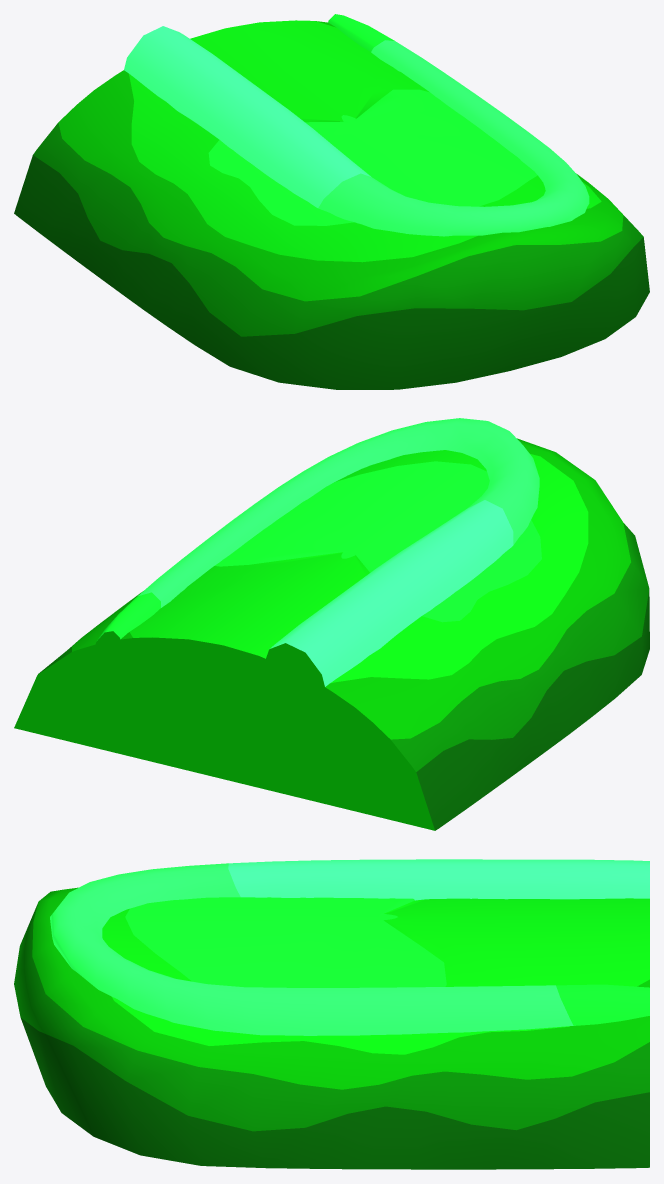
The model's file is shot_espike_137.glb.
3 renders of one model, top to bottom at view 1: azimuth 30°, elevation 25°; view 2: azimuth 150°, elevation 25°; view 3: azimuth 270°, elevation 25°, orthographic. The views are drawn at different scales.
Visible parts, largest first — view 1: shot_espike_137_body, shot_espike_137_light; view 2: shot_espike_137_body, shot_espike_137_light; view 3: shot_espike_137_body, shot_espike_137_light.
Boxes of the visible parts, box(x1,y1,x2,y2) form: shot_espike_137_body: box(14, 20, 649, 389); shot_espike_137_light: box(124, 14, 589, 236); shot_espike_137_body: box(14, 438, 649, 830); shot_espike_137_light: box(93, 418, 539, 689); shot_espike_137_body: box(14, 887, 649, 1169); shot_espike_137_light: box(50, 859, 649, 1035).
Bounding box in the file's own units: 12 × 4.11 × 14.61.
